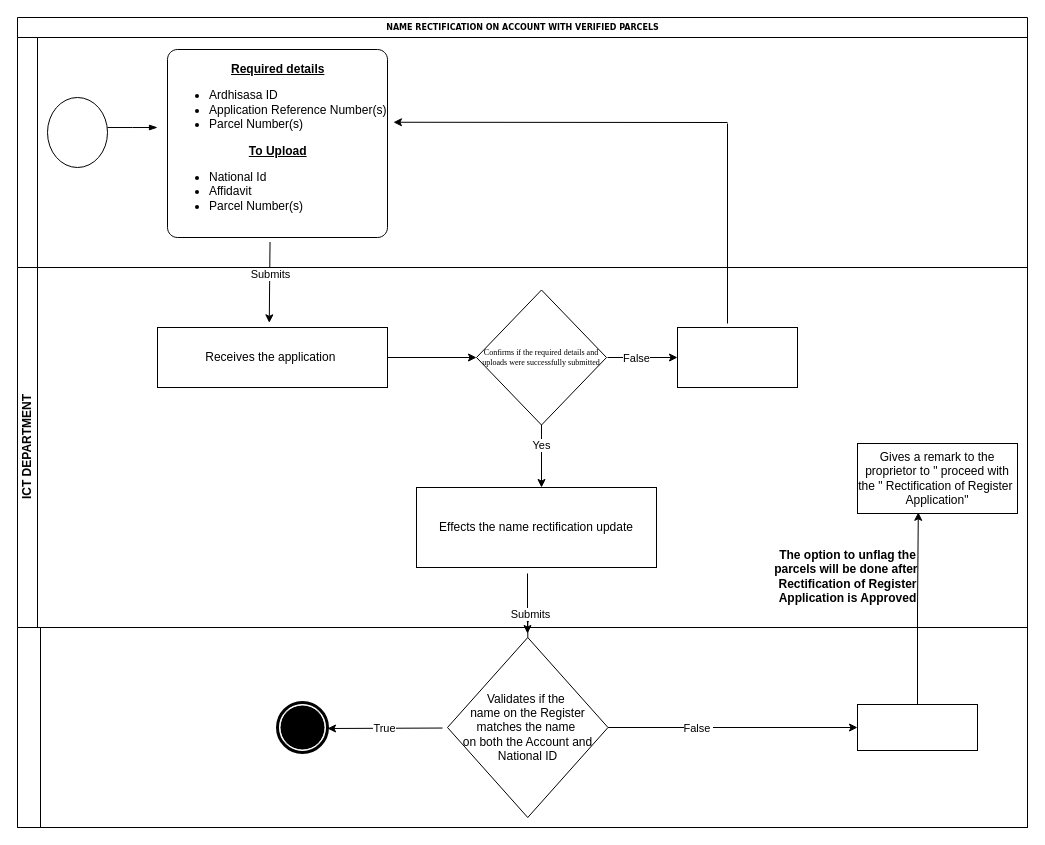
Some shapes in this 1045 by 845 pixel diagram are drawn without their labels. Here are the shapes that lost their labels. From the top down, the box of each, then its label:
(16, 36, 1028, 268): Applicant(s)- Proprietor
(676, 326, 798, 388): To return to the Applicant
(16, 626, 1028, 828): SYSTEM
(856, 704, 978, 750): Temporarily flags the enumerated parcels
